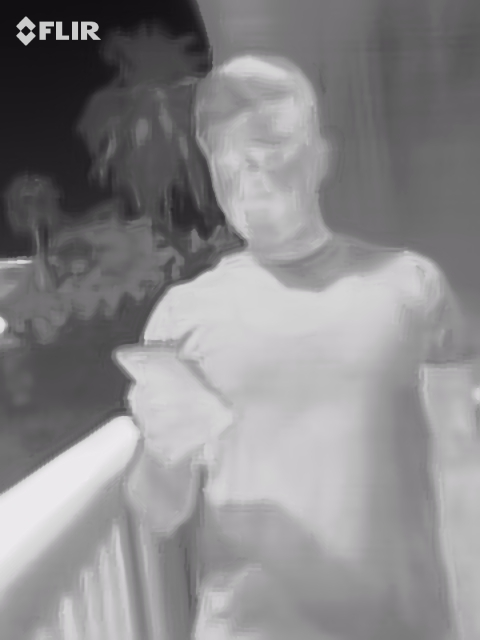head: (194, 64, 330, 247)
